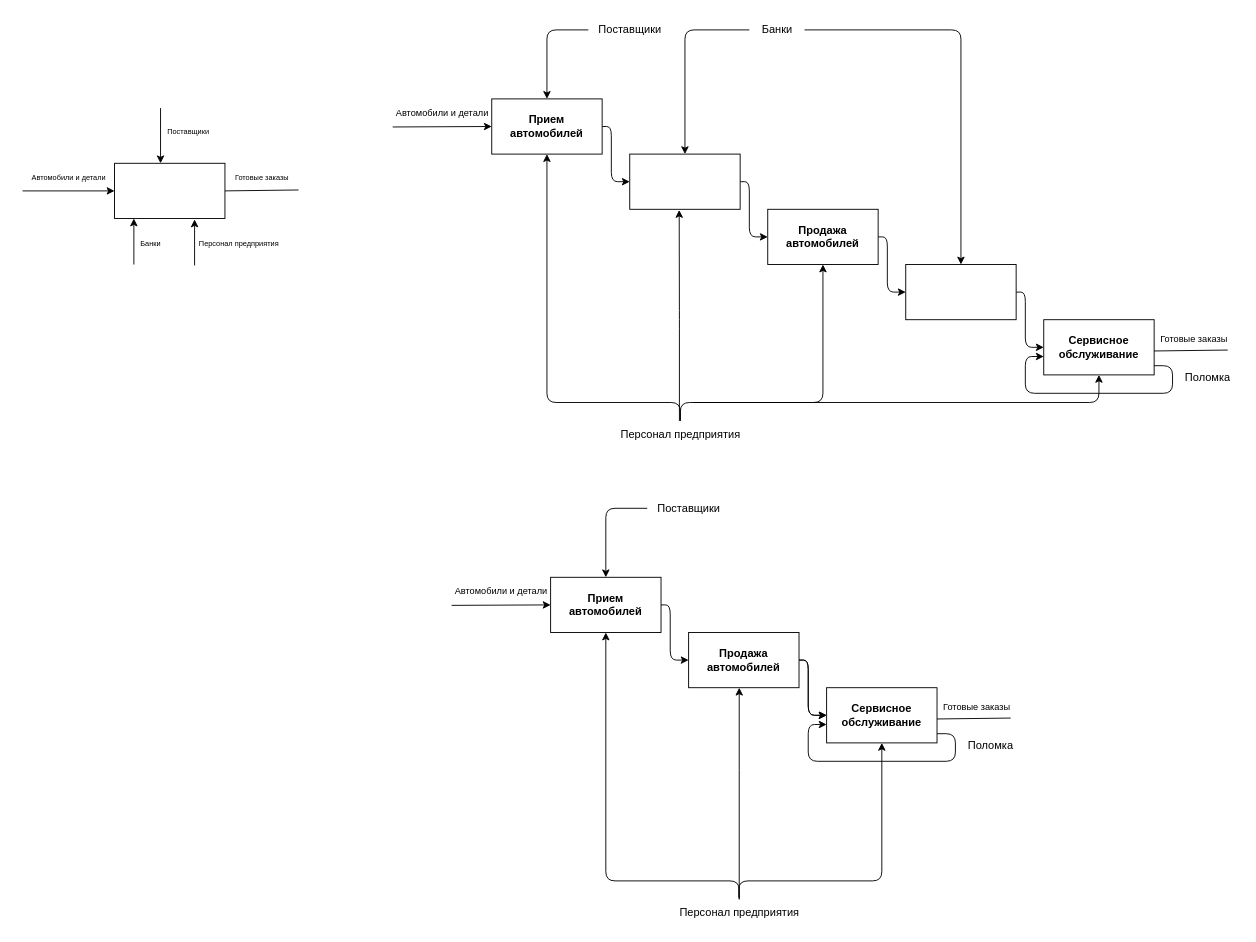
The diagram is 1256 pixels wide and 942 high, and some of its shapes have lost their labels. The shapes that lost their labels are listed below. From the top down, each one's centre as x and y in pixels, then its label:
point 169,190: Автосалон
point 684,181: Маркетинг и реклама
point 960,292: Кредитование и лизинг
